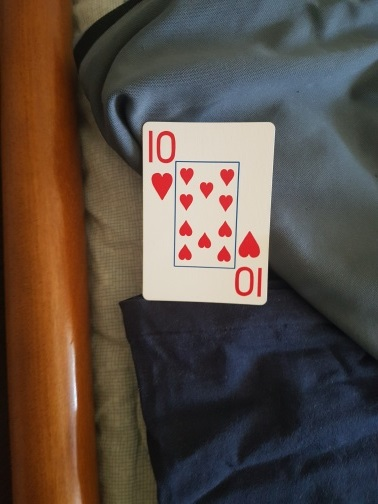ten: (140, 120, 277, 306)
